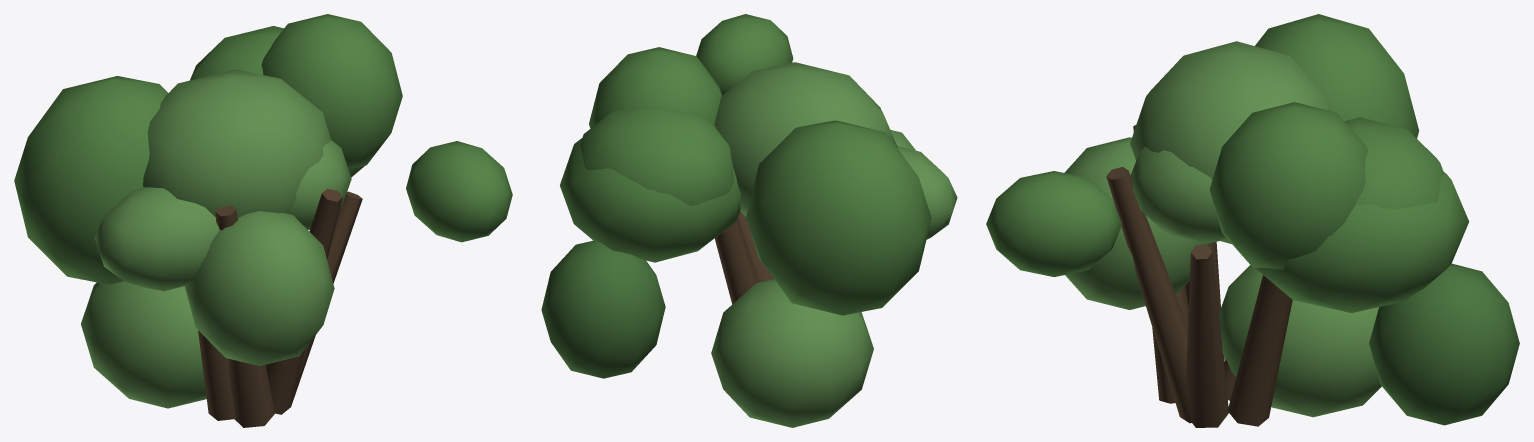
The model's file is shrub_lush_mid.glb.
The picture shows the model from 3 angles, left to right: view 1: azimuth 30°, elevation 25°; view 2: azimuth 150°, elevation 25°; view 3: azimuth 270°, elevation 25°; orthographic projection. The views are drawn at different scales.
Size of the model in its own units: 1.48 by 1.39 by 1.77.
